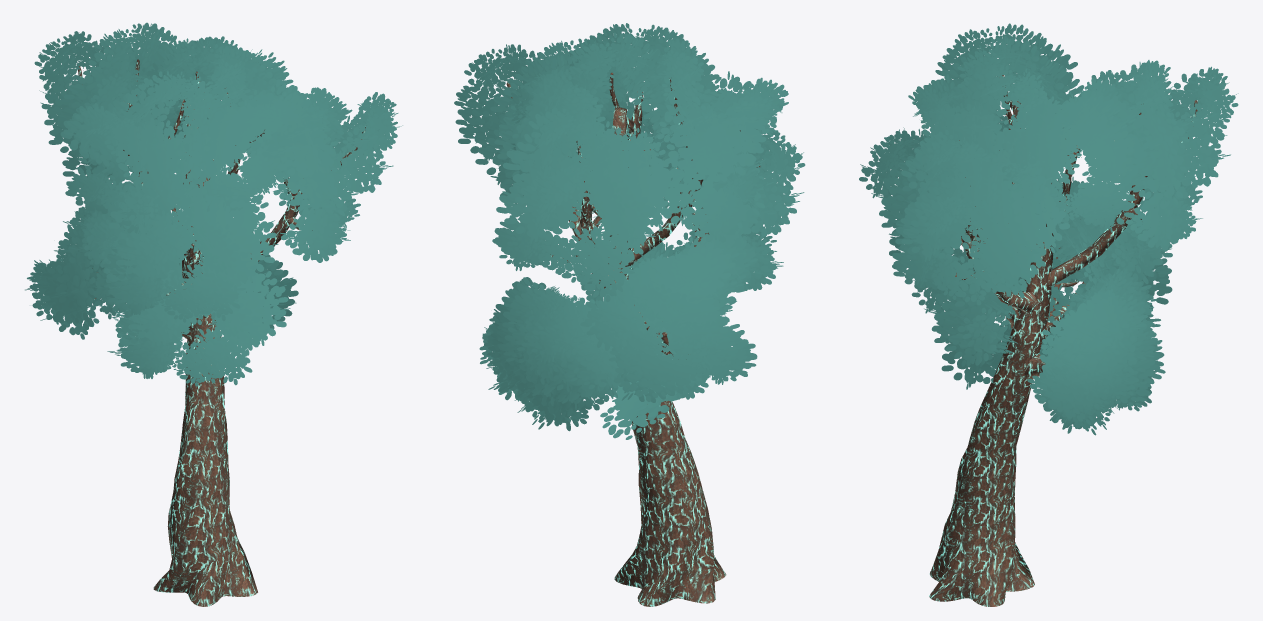
Rendered from dtree_twisted_5.glb.
3 views of the same model, side by side, from view 1: azimuth 30°, elevation 25°; view 2: azimuth 150°, elevation 25°; view 3: azimuth 270°, elevation 25° (orthographic). The views are drawn at different scales.
Parts seen in each view (by area): view 1: model; view 2: model; view 3: model.
Boxes of the visible parts, x1,y1,x2,y2 form: model: [25, 22, 402, 606]; model: [454, 23, 805, 606]; model: [859, 23, 1238, 606].
Bounding box in the file's own units: 6.38 × 9.42 × 6.31.
2 materials, 2 textured.
